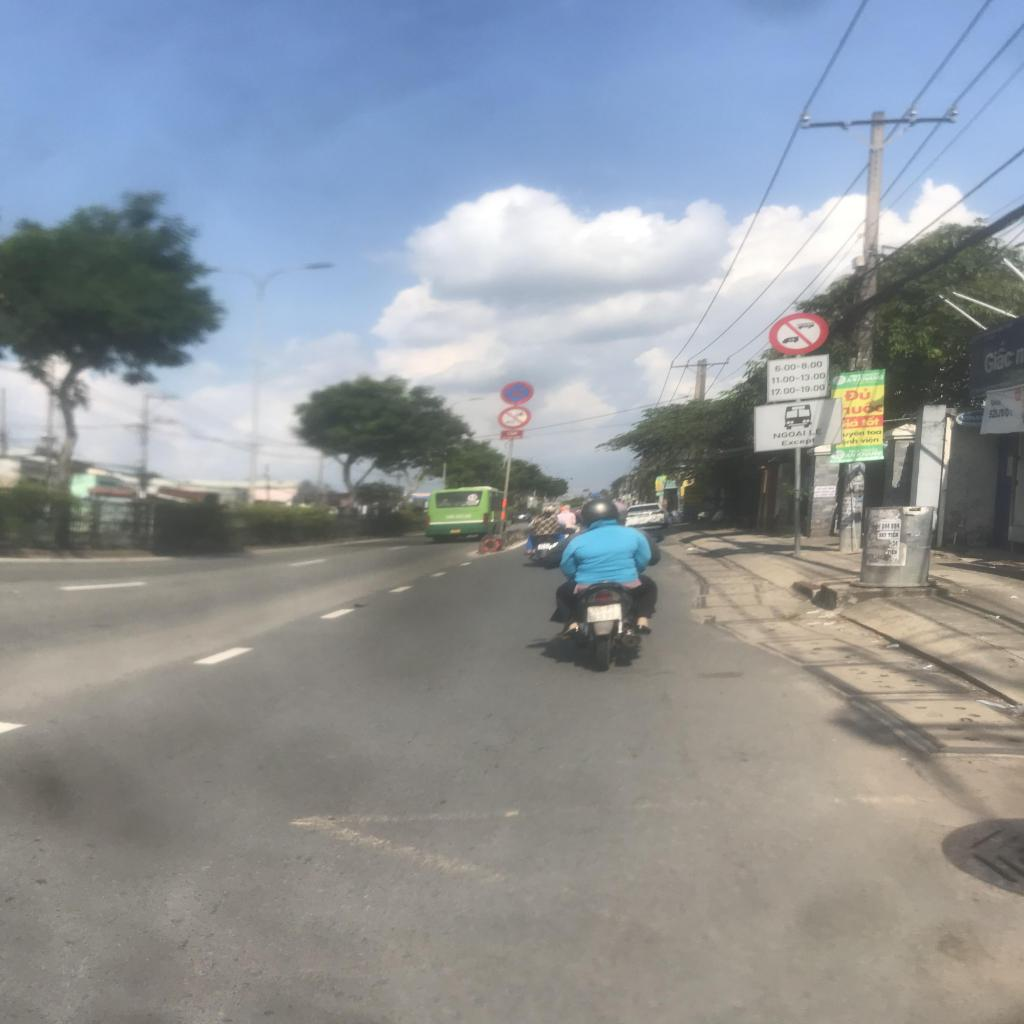cam_dung_xe_va_do_xe: (500, 381, 536, 404)
cam_o_to_tai_va_xe_khach: (768, 312, 830, 354)
cam_xe_2_banh_va_xe_3_banh_co_dong_co: (497, 406, 531, 430)
khac: (753, 398, 843, 452), (767, 356, 829, 402)
